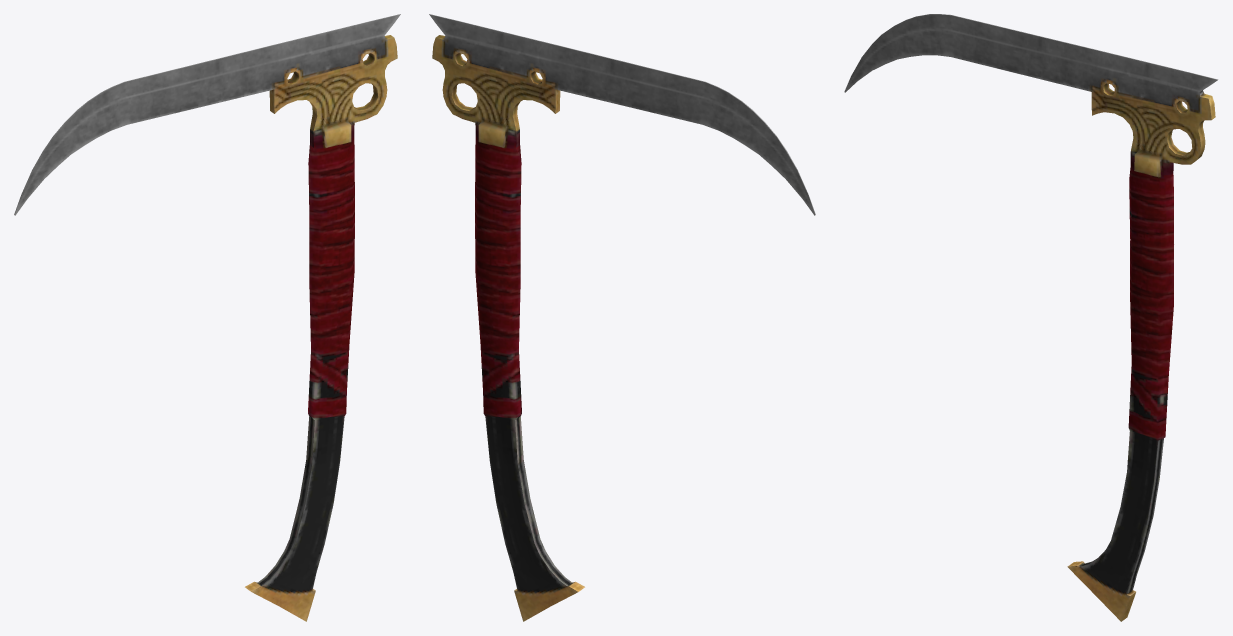
The model's file is Ninja Sickle.fbx.
3 views of the same model, side by side, from view 1: azimuth 30°, elevation 25°; view 2: azimuth 150°, elevation 25°; view 3: azimuth 330°, elevation 25° (orthographic). The views are drawn at different scales.
Visible parts, largest first — view 1: NinjaSickle; view 2: NinjaSickle; view 3: NinjaSickle.
Part boxes in pixels (x1=…): NinjaSickle: x1=14, y1=14, x2=400, y2=621; NinjaSickle: x1=429, y1=14, x2=815, y2=621; NinjaSickle: x1=844, y1=14, x2=1218, y2=621.
Size of the model in its own units: 42.26 by 60.8 by 2.41.
